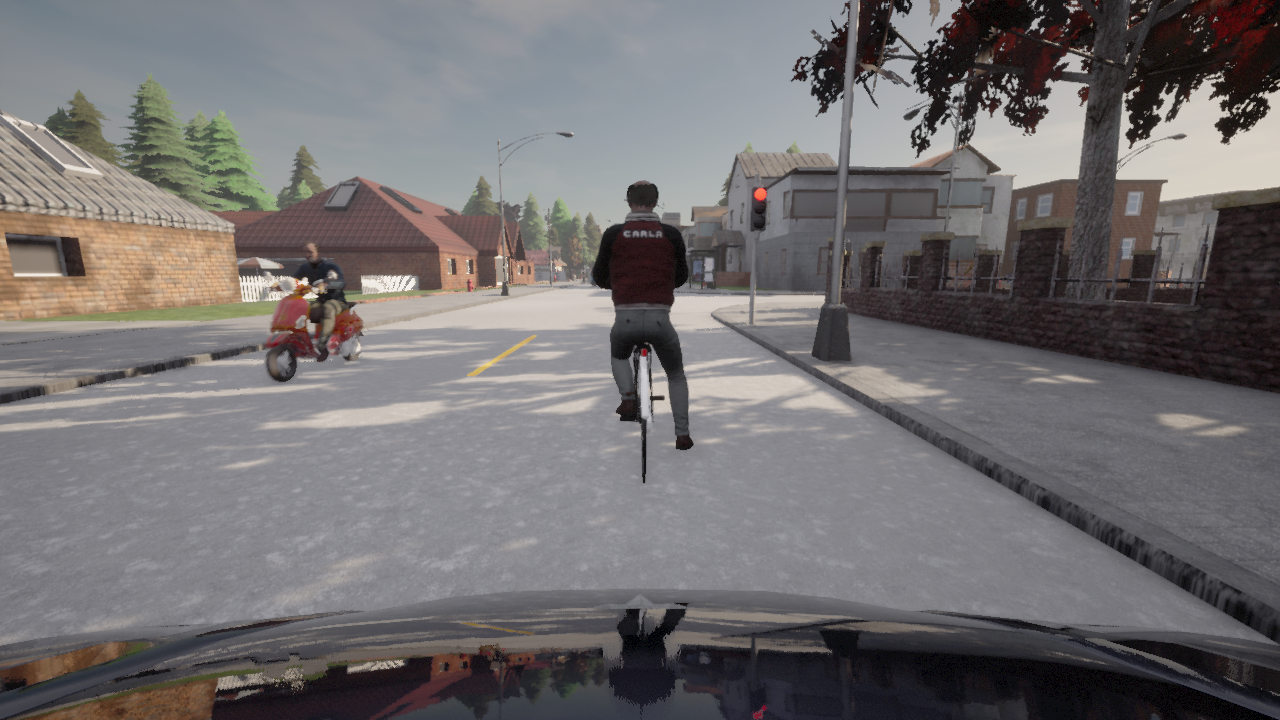cyclist: (0, 588, 1279, 719), (263, 270, 365, 382), (619, 342, 664, 482), (590, 275, 595, 286), (595, 284, 596, 285)
pedestrian: (959, 252, 978, 286), (686, 280, 687, 286)
